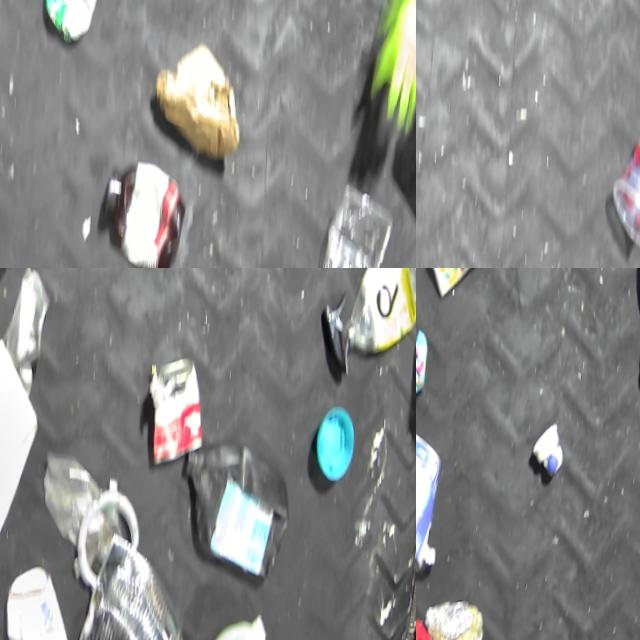can: (72, 528, 192, 640), (153, 352, 211, 467), (6, 561, 76, 640), (416, 424, 445, 573), (42, 0, 101, 43), (419, 268, 493, 297)
milk_jug: (174, 610, 272, 640)
non_white_jug: (182, 439, 296, 581)
